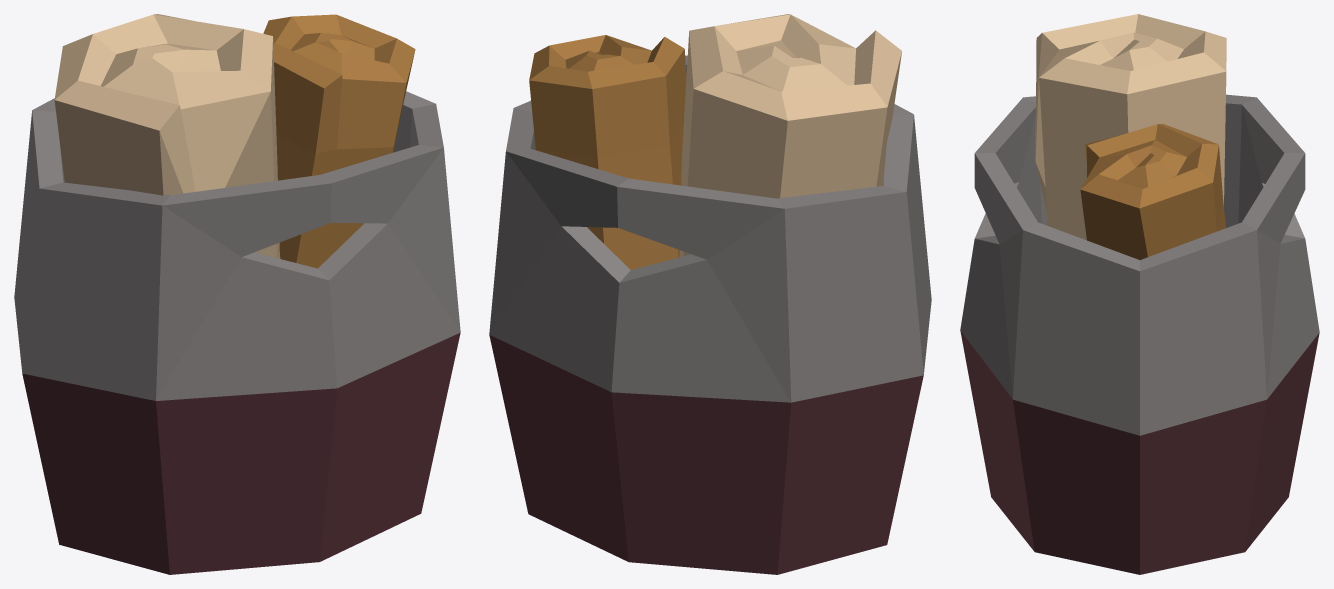
The model's file is bag-storage-towels.fbx.
The picture shows the model from 3 angles, left to right: view 1: azimuth 30°, elevation 25°; view 2: azimuth 150°, elevation 25°; view 3: azimuth 270°, elevation 25°; orthographic projection. The views are drawn at different scales.
Visible parts, largest first — view 1: bag-storage-towels; view 2: bag-storage-towels; view 3: bag-storage-towels.
Part boxes in pixels (<box>): bag-storage-towels: <box>14,14,460,574</box>; bag-storage-towels: <box>489,14,931,574</box>; bag-storage-towels: <box>960,14,1319,574</box>.
Bounding box in the file's own units: 0.5121 × 0.5411 × 0.4131.
